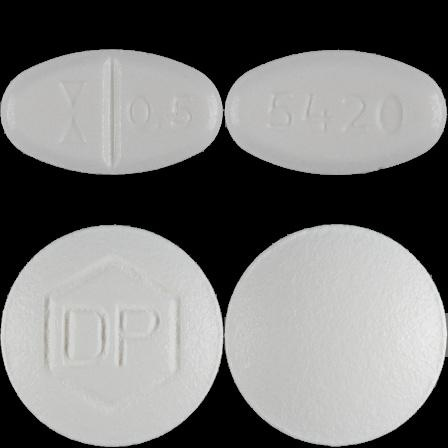0093-5420: (0, 0, 224, 224)
